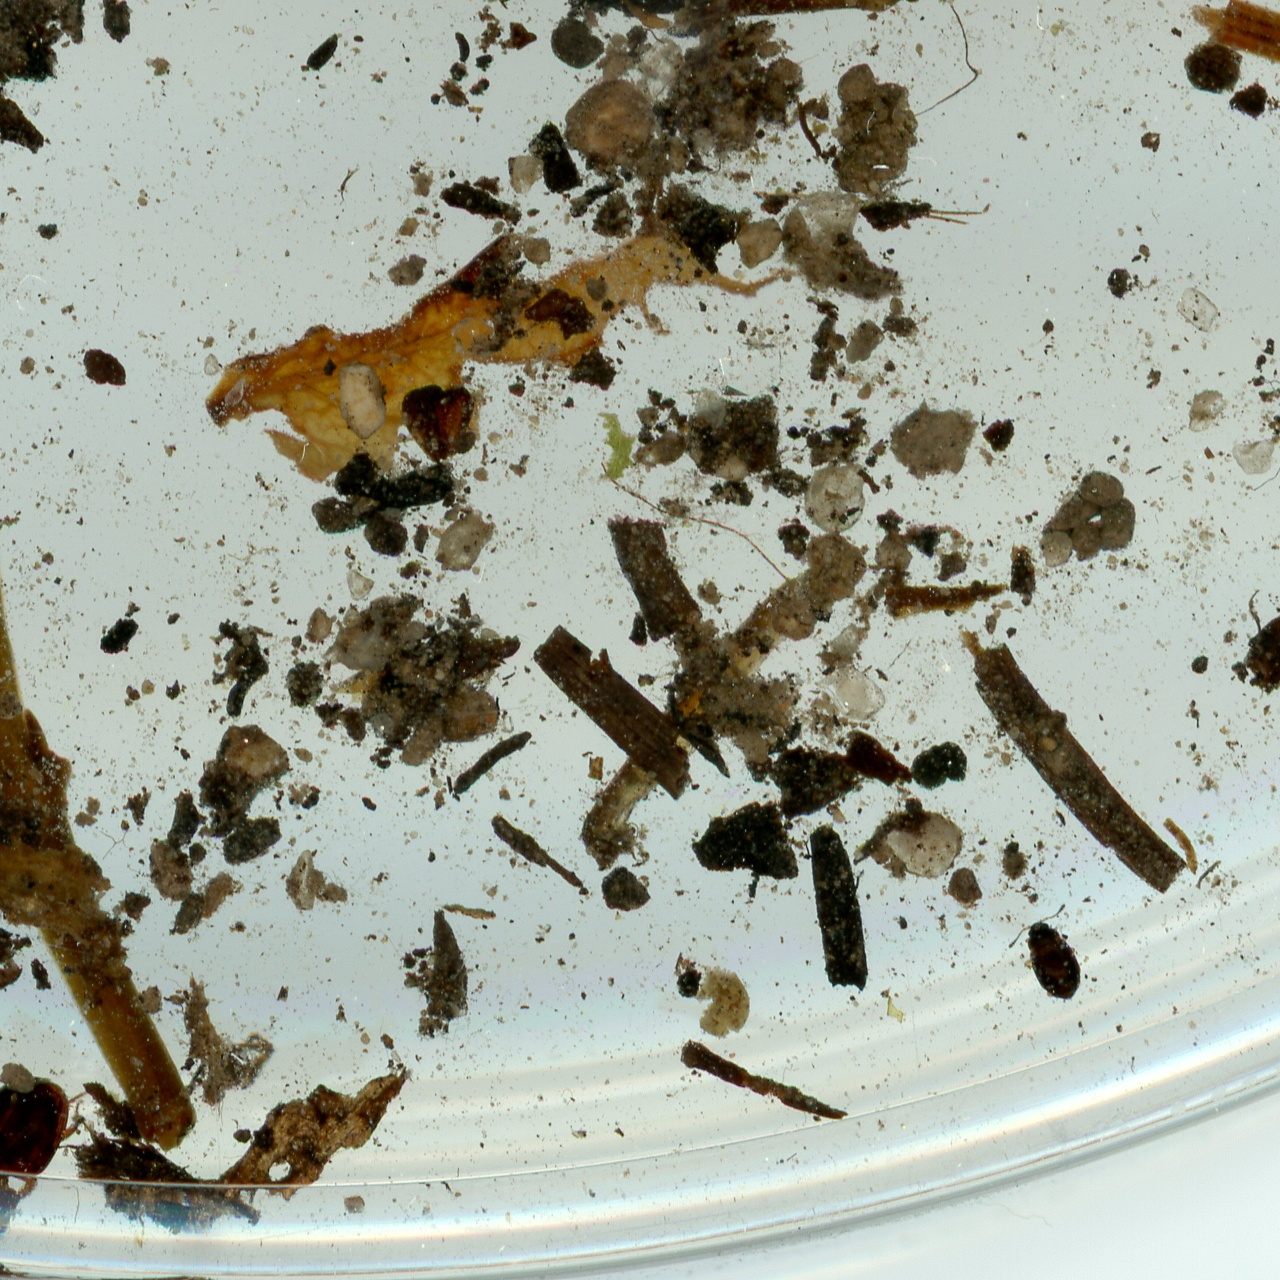arthropod: (0, 1076, 90, 1244), (1000, 899, 1111, 1016), (0, 1073, 77, 1239), (1012, 914, 1088, 1007), (0, 788, 32, 1001), (863, 191, 994, 233)
